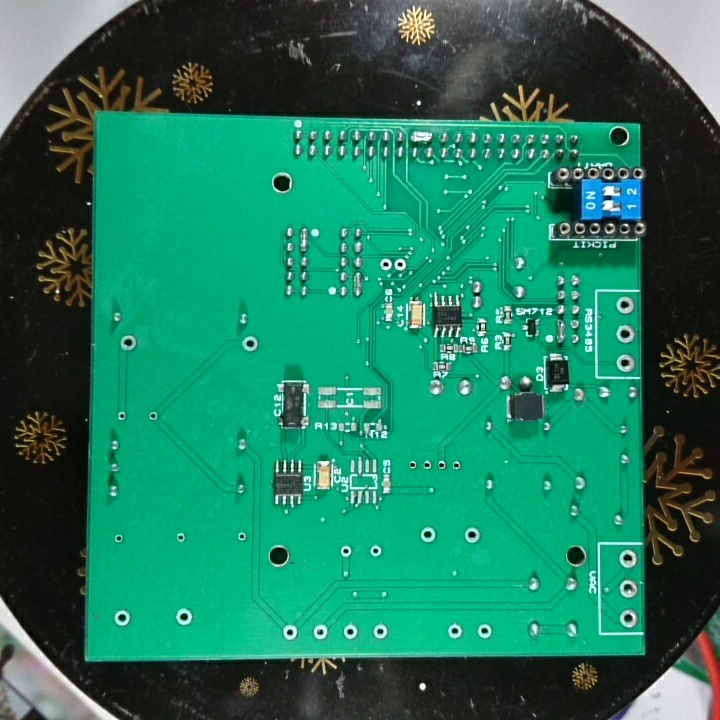F: (614, 295, 637, 319), (278, 622, 302, 645), (614, 321, 636, 346), (111, 606, 134, 629), (617, 577, 639, 601), (618, 606, 640, 629), (173, 606, 196, 628), (117, 333, 139, 355), (617, 549, 638, 572), (238, 335, 262, 355), (614, 351, 635, 372), (418, 526, 440, 546), (310, 623, 331, 643), (462, 525, 482, 546), (445, 621, 465, 640), (371, 621, 391, 640), (475, 621, 494, 640), (342, 621, 359, 640), (377, 255, 392, 275), (393, 255, 408, 275), (367, 543, 383, 561), (172, 529, 188, 546), (338, 543, 354, 560), (403, 455, 419, 472), (112, 530, 127, 547), (234, 529, 249, 546), (146, 408, 160, 425), (450, 458, 464, 474), (114, 409, 130, 423), (420, 457, 434, 472), (434, 458, 448, 472)
P: (409, 129, 434, 146), (297, 225, 311, 255), (351, 271, 364, 300), (554, 318, 565, 347)
